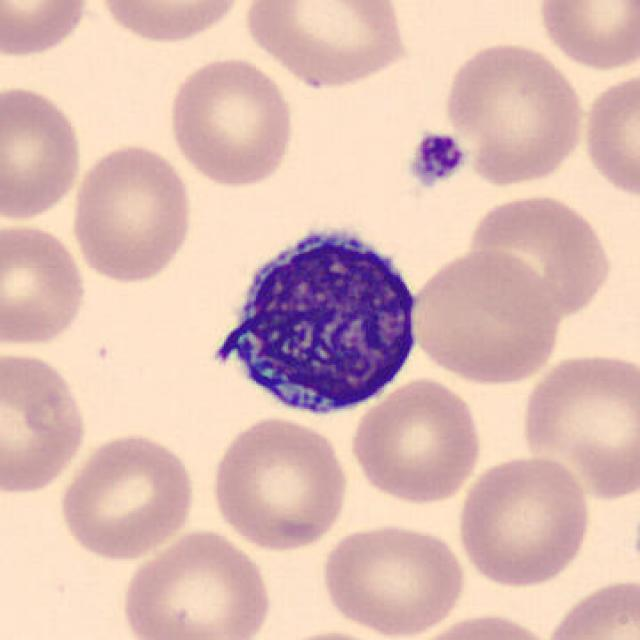Lymphocyte: (198, 213, 429, 423)
Platelets: (407, 129, 469, 189)
RBC: (439, 37, 589, 187), (409, 247, 567, 388), (206, 415, 350, 556), (66, 138, 197, 289), (55, 429, 199, 563), (518, 346, 639, 504), (455, 453, 594, 589), (164, 53, 299, 192), (349, 374, 487, 508), (116, 526, 278, 639), (317, 520, 470, 638), (242, 0, 411, 90), (0, 349, 92, 497), (0, 219, 91, 351), (0, 83, 85, 224), (580, 67, 638, 203), (531, 0, 638, 72), (91, 0, 249, 48), (537, 575, 638, 640), (0, 0, 96, 60), (405, 610, 562, 640)
